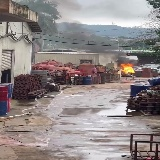fire: (121, 63, 135, 73)
